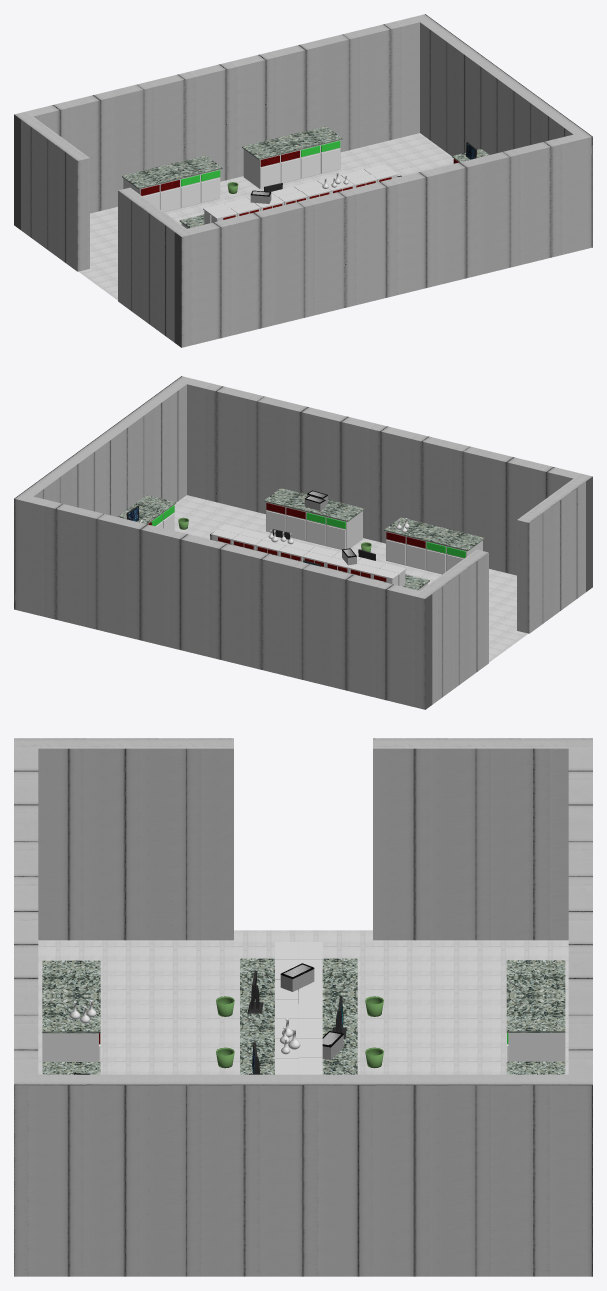
File: low_poly_chemistry_lab.glb
3 views of the same model, one above another, from view 1: azimuth 30°, elevation 25°; view 2: azimuth 150°, elevation 25°; view 3: azimuth 270°, elevation 25° (orthographic). The views are drawn at different scales.
Parts seen in each view (by area): view 1: Plane, Plane.001, bancadaEsq.007, bancadaDir.006, bancadaDir.007, bancadaEsq.006; view 2: Plane, Plane.001, bancadaDir.004, bancadaEsq.005, bancadaDir.005, bancadaEsq.003, bancadaDir.003; view 3: Plane, Plane.001, bancadaDir.006, bancadaEsq.005, bancadaEsq.006, bancadaDir.005, bancadaDir.002, bancadaEsq.002, bancadaMeio.002, bancadaMeio.004, bancadaMeio.003, bancadaEsq.007 (+3 smaller).
Part boxes in pixels (box(x1,y1,x2,y2)): Plane: box(14, 14, 592, 347); Plane.001: box(79, 133, 453, 300); bancadaEsq.007: box(242, 136, 300, 188); bancadaDir.006: box(164, 155, 222, 208); bancadaDir.007: box(284, 126, 342, 179); bancadaEsq.006: box(122, 165, 180, 212); Plane: box(14, 376, 592, 709); Plane.001: box(174, 495, 527, 662); bancadaDir.004: box(305, 499, 364, 549); bancadaEsq.005: box(384, 517, 442, 570); bancadaDir.005: box(426, 527, 484, 574); bancadaEsq.003: box(264, 488, 308, 541); bancadaDir.003: box(123, 495, 176, 530); Plane: box(14, 738, 592, 1276); Plane.001: box(38, 930, 568, 1074); bancadaDir.006: box(506, 995, 565, 1061); bancadaEsq.005: box(42, 996, 100, 1061); bancadaEsq.006: box(506, 960, 565, 995); bancadaDir.005: box(42, 960, 100, 995); bancadaDir.002: box(322, 958, 357, 993); bancadaEsq.002: box(240, 958, 274, 994); bancadaMeio.002: box(240, 1028, 274, 1062); bancadaMeio.004: box(322, 994, 357, 1028); bancadaMeio.003: box(240, 994, 274, 1028); bancadaEsq.007: box(506, 1061, 565, 1074).
Bounding box in the file's own units: 11.66 × 3 × 8.22.
Materials: 20 (10 with a texture image).
